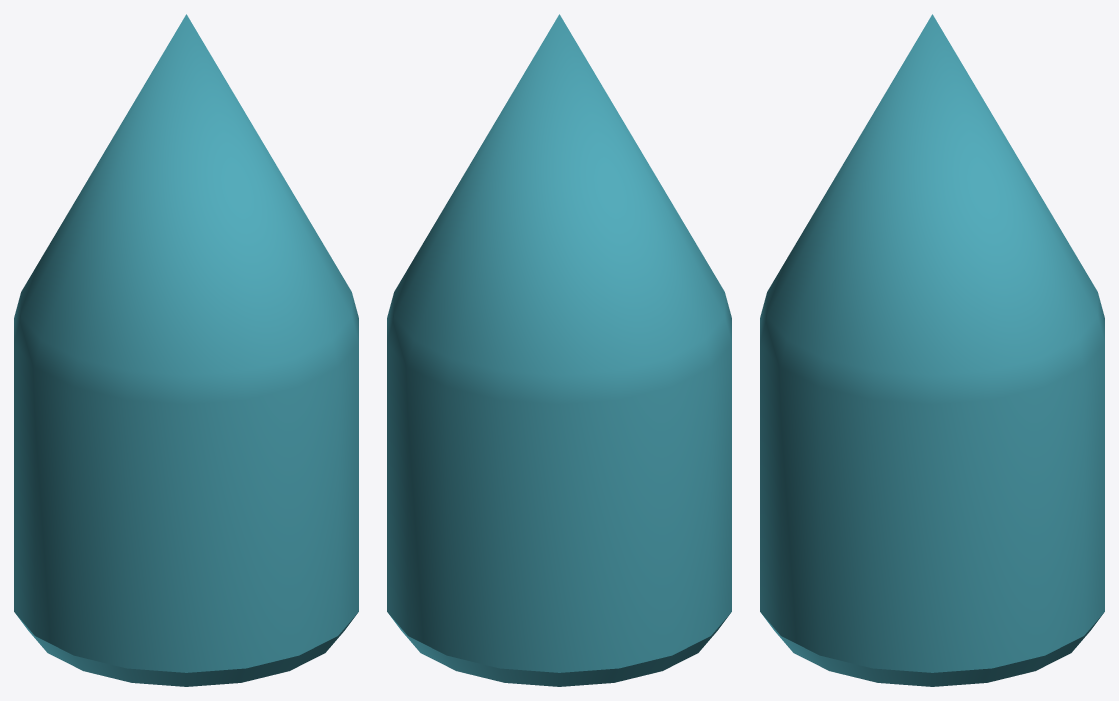
File: 炸裂效果2仙人掌.FBX
3 views of the same model, side by side, from view 1: azimuth 30°, elevation 25°; view 2: azimuth 150°, elevation 25°; view 3: azimuth 270°, elevation 25° (orthographic).
Visible parts, largest first — view 1: Cylinder001; view 2: Cylinder001; view 3: Cylinder001.
Part boxes in pixels (x1,y1,x2,y2): Cylinder001: [14, 14, 358, 686]; Cylinder001: [387, 14, 731, 686]; Cylinder001: [760, 14, 1104, 686].
Bounding box in the file's own units: 12.44 × 23.73 × 12.25.
